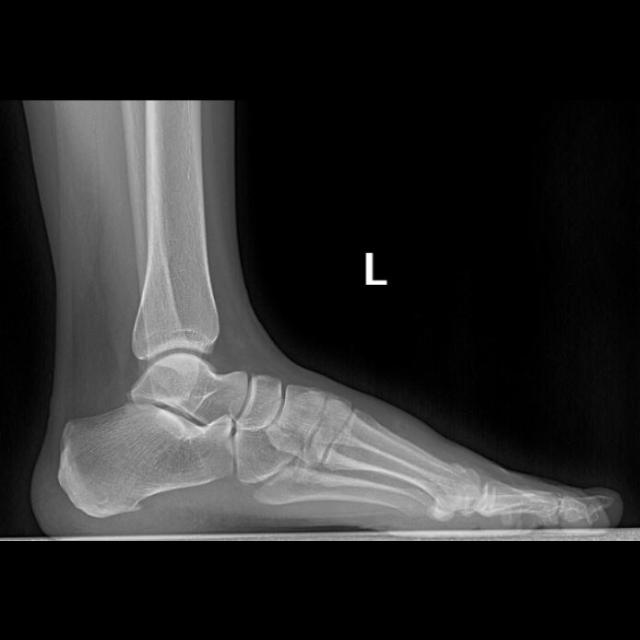a: (59, 403, 232, 517)
b: (236, 375, 281, 432)
c: (323, 408, 479, 515)
